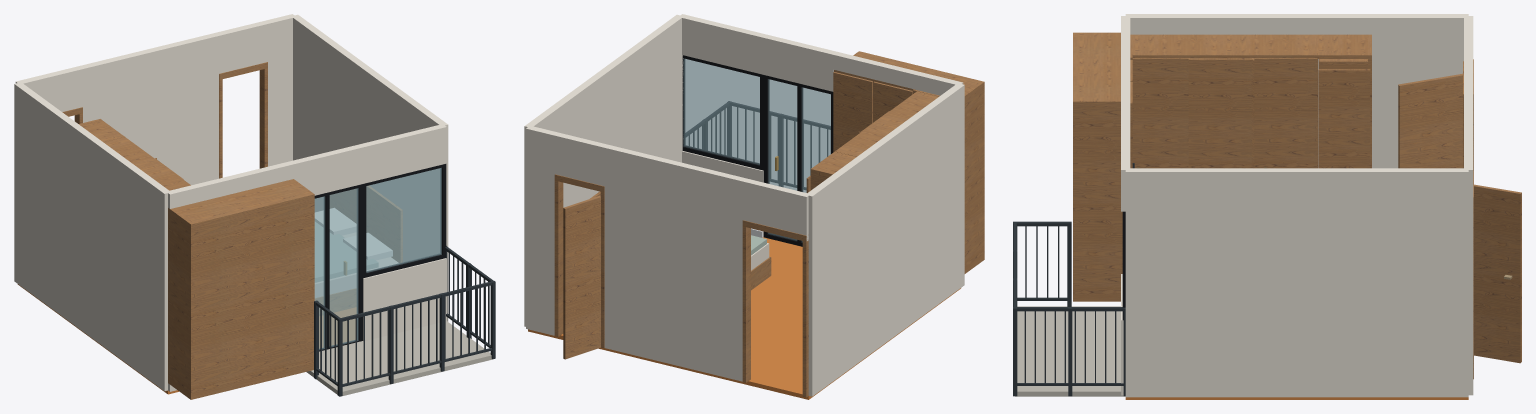
The model's file is source.glb.
3 views of the same model, side by side, from view 1: azimuth 30°, elevation 25°; view 2: azimuth 150°, elevation 25°; view 3: azimuth 270°, elevation 25° (orthographic). The views are drawn at different scales.
Parts seen in each view (by area): view 1: Source mesh 27, Source mesh 31, Source mesh 29, Source mesh 22, Source mesh 16, Source mesh 37, Source mesh 6, Source mesh 13, Source mesh 25, Source mesh 15, Source mesh 5, Source mesh 98 (+20 smaller); view 2: Source mesh 27, Source mesh 22, Source mesh 29, Source mesh 1, Source mesh 16, Source mesh 25, Source mesh 93, Source mesh 6, Source mesh 31, Source mesh 15, Source mesh 5, Source mesh 21 (+15 smaller); view 3: Source mesh 29, Source mesh 27, Source mesh 31, Source mesh 93, Source mesh 37, Source mesh 124, Source mesh 121, Source mesh 127, Source mesh 88, Source mesh 116, Source mesh 111, Source mesh 25 (+7 smaller).
Part boxes in pixels (<box>): Source mesh 27: <box>14,82,170,391</box>; Source mesh 31: <box>168,179,314,399</box>; Source mesh 29: <box>293,14,448,321</box>; Source mesh 22: <box>79,33,218,185</box>; Source mesh 16: <box>366,168,441,272</box>; Source mesh 37: <box>306,321,492,396</box>; Source mesh 6: <box>314,188,358,349</box>; Source mesh 13: <box>363,258,446,340</box>; Source mesh 25: <box>264,14,295,166</box>; Source mesh 15: <box>360,124,446,183</box>; Source mesh 5: <box>290,144,363,195</box>; Source mesh 98: <box>330,186,402,262</box>; Source mesh 27: <box>807,83,964,396</box>; Source mesh 22: <box>604,145,746,381</box>; Source mesh 29: <box>524,14,683,326</box>; Source mesh 1: <box>528,237,960,399</box>; Source mesh 16: <box>683,58,759,164</box>; Source mesh 25: <box>526,125,558,335</box>; Source mesh 93: <box>563,195,600,359</box>; Source mesh 6: <box>768,79,830,241</box>; Source mesh 31: <box>834,51,984,273</box>; Source mesh 15: <box>680,14,766,74</box>; Source mesh 5: <box>763,34,837,91</box>; Source mesh 21: <box>743,178,810,240</box>; Source mesh 29: <box>1125,168,1468,397</box>; Source mesh 27: <box>1125,14,1468,168</box>; Source mesh 31: <box>1073,32,1122,301</box>; Source mesh 93: <box>1474,184,1521,363</box>; Source mesh 37: <box>1015,306,1125,396</box>; Source mesh 124: <box>1188,58,1253,168</box>; Source mesh 121: <box>1253,58,1317,168</box>; Source mesh 127: <box>1132,58,1189,168</box>; Source mesh 88: <box>1398,73,1462,168</box>; Source mesh 116: <box>1132,34,1371,58</box>; Source mesh 111: <box>1318,69,1370,168</box>; Source mesh 25: <box>1464,154,1473,395</box>.
Bounding box in the file's own units: 4.06 × 2.76 × 5.53.
129 materials, 38 textured.
